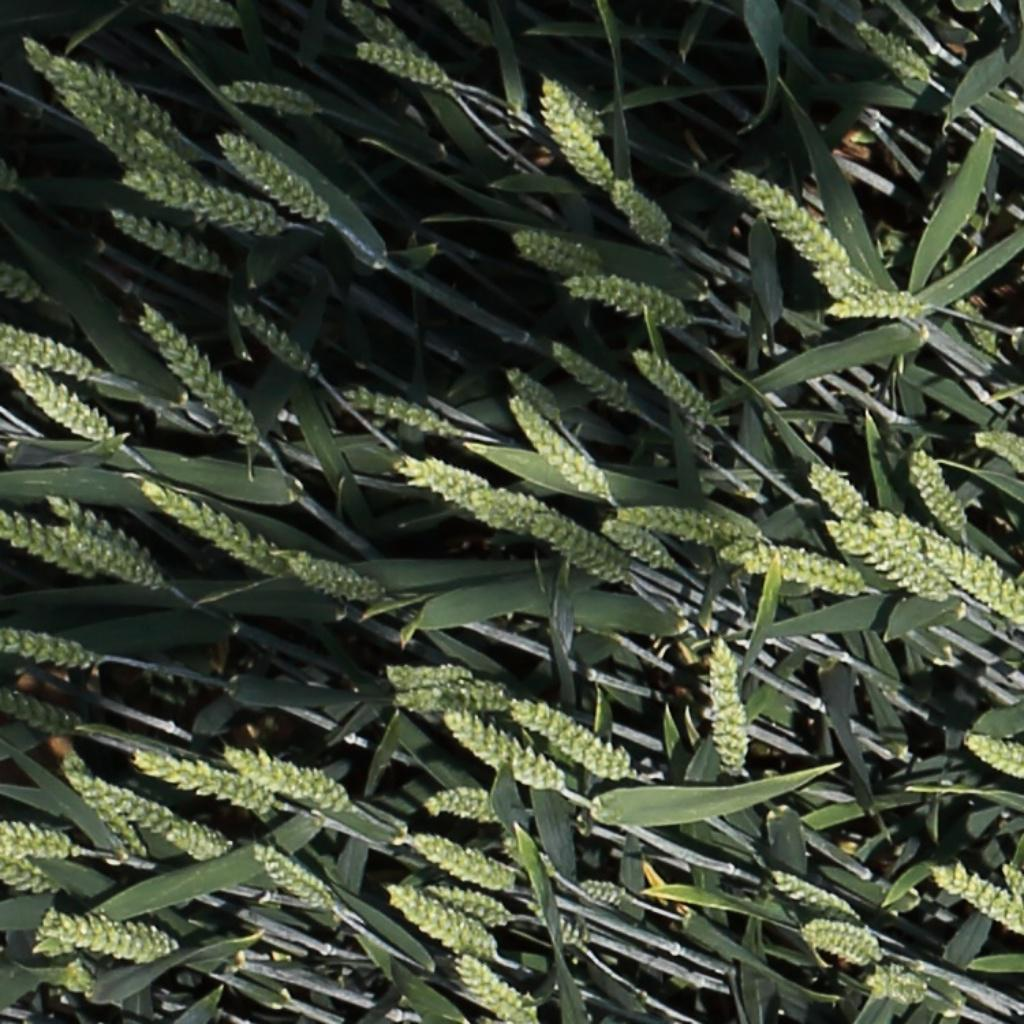0-0: (862, 505, 1024, 633), (132, 301, 264, 447), (21, 38, 183, 139), (139, 483, 281, 577), (819, 514, 961, 604), (729, 165, 850, 268), (121, 169, 291, 237), (507, 696, 642, 781), (131, 746, 284, 820), (507, 397, 611, 503), (217, 128, 332, 221), (9, 361, 121, 449), (222, 746, 360, 817), (52, 79, 161, 168), (58, 759, 153, 861), (532, 75, 614, 192), (441, 714, 563, 790), (36, 907, 184, 966), (40, 494, 157, 565), (718, 536, 862, 592), (387, 886, 498, 957), (48, 521, 159, 589), (703, 636, 755, 780), (107, 208, 222, 273), (933, 866, 1024, 948), (229, 300, 319, 382), (0, 505, 96, 581), (406, 831, 521, 893), (613, 501, 758, 550), (68, 769, 178, 830), (527, 516, 628, 578), (252, 838, 340, 909), (905, 443, 969, 540), (391, 453, 498, 511), (630, 348, 712, 423), (453, 954, 537, 1024), (0, 324, 105, 379), (550, 341, 632, 410), (128, 809, 232, 863), (335, 0, 423, 62), (468, 482, 569, 536), (587, 271, 684, 324), (819, 286, 929, 332), (0, 627, 105, 675), (345, 389, 454, 435), (393, 677, 521, 715), (856, 19, 931, 83), (804, 460, 873, 529), (606, 176, 672, 247), (217, 76, 318, 120), (800, 914, 885, 966), (423, 881, 519, 927), (350, 42, 446, 87), (380, 658, 492, 696), (768, 872, 851, 922), (285, 554, 378, 597), (600, 518, 671, 572), (0, 690, 81, 737), (950, 290, 1004, 360), (501, 364, 563, 424), (0, 819, 81, 864), (561, 275, 652, 315), (131, 127, 193, 185), (856, 959, 933, 1004), (513, 230, 599, 270), (422, 785, 507, 824), (27, 901, 79, 964), (963, 727, 1024, 780), (525, 894, 586, 947), (804, 259, 873, 303), (571, 865, 635, 912), (564, 83, 612, 140), (439, 0, 495, 47), (165, 1, 248, 29), (0, 858, 54, 897), (973, 431, 1024, 472), (0, 260, 40, 301), (996, 861, 1024, 914)
